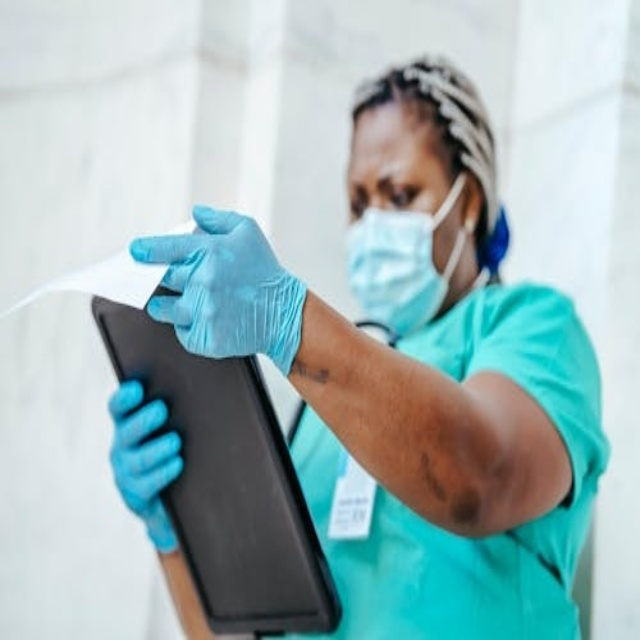Guantes: (135, 203, 307, 375), (107, 378, 184, 555)
Mascara: (347, 174, 469, 336)
Sin_gafas: (346, 152, 433, 211)
